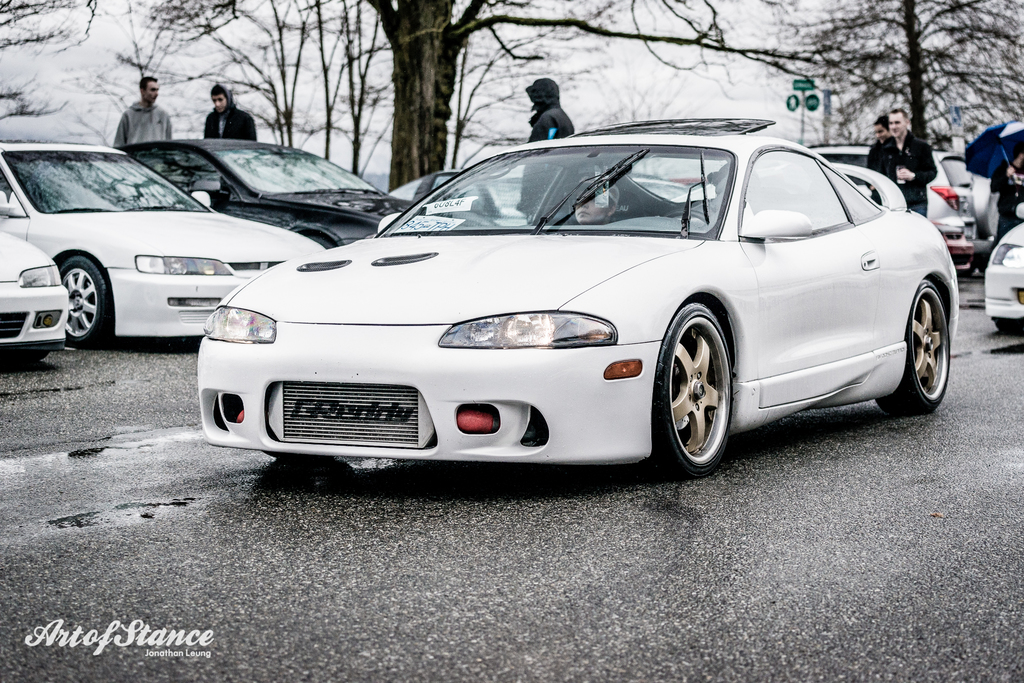mobil: (197, 113, 972, 503)
